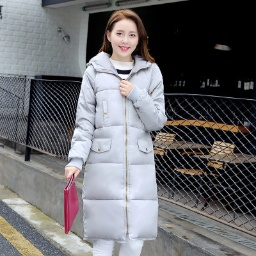face: (100, 9, 156, 61)
